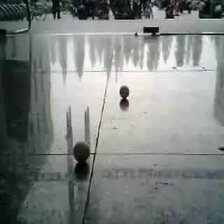w: (72, 140, 91, 162), (118, 84, 131, 99)
